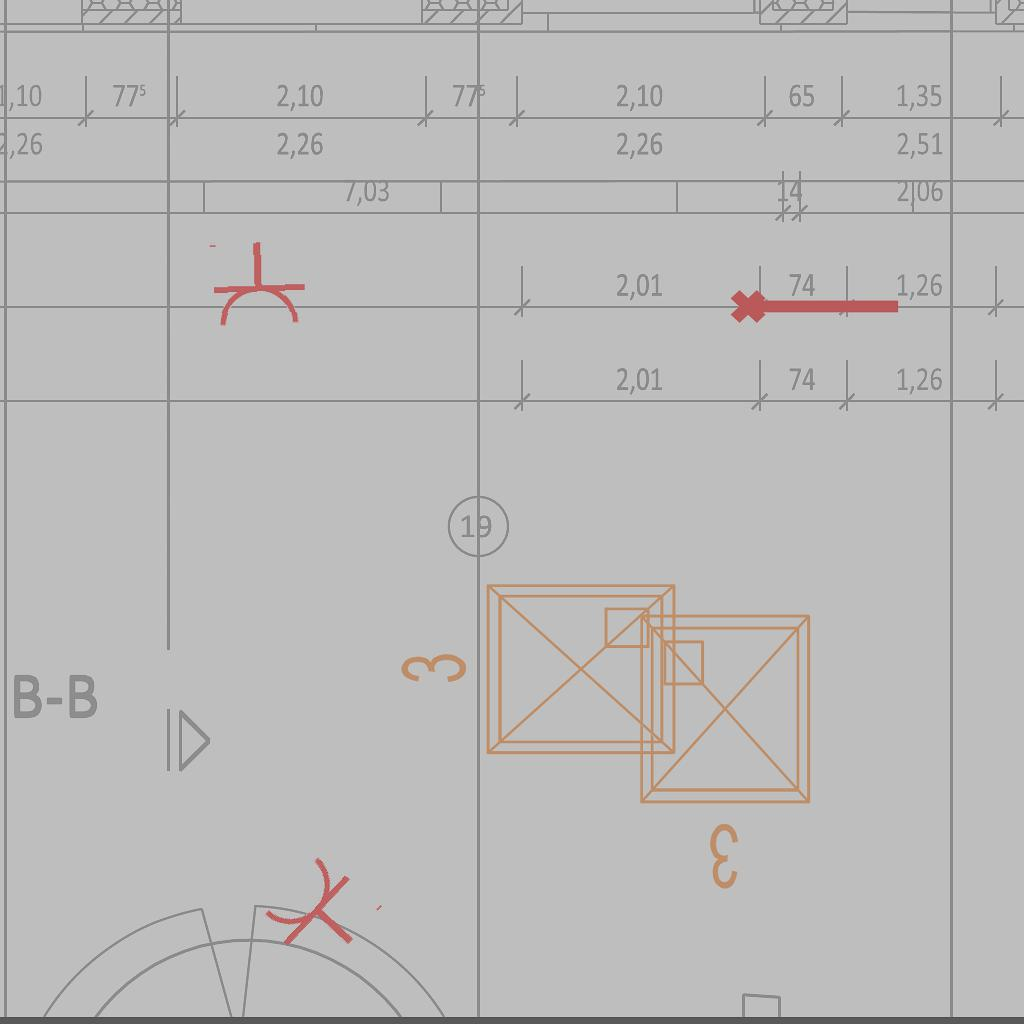ASR_Ansaugoeffnung: (728, 281, 904, 327)
Einbaudownlights_LED_Konferenzraeume: (625, 600, 833, 900), (390, 569, 690, 777)
Schukosteckdose_einfach: (255, 845, 388, 979), (205, 238, 308, 330)
